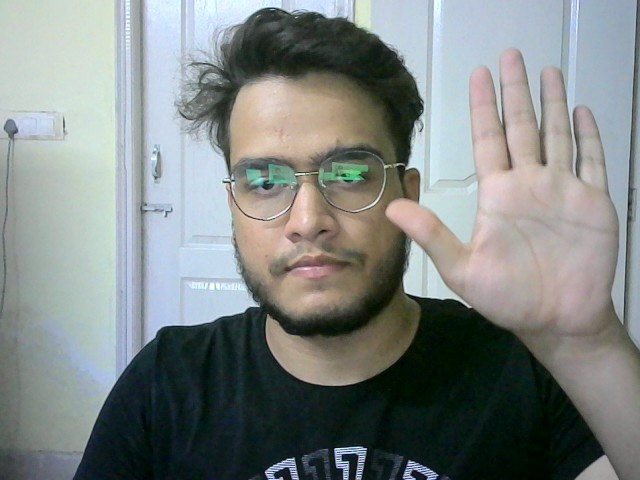Hello: (384, 54, 634, 344)
